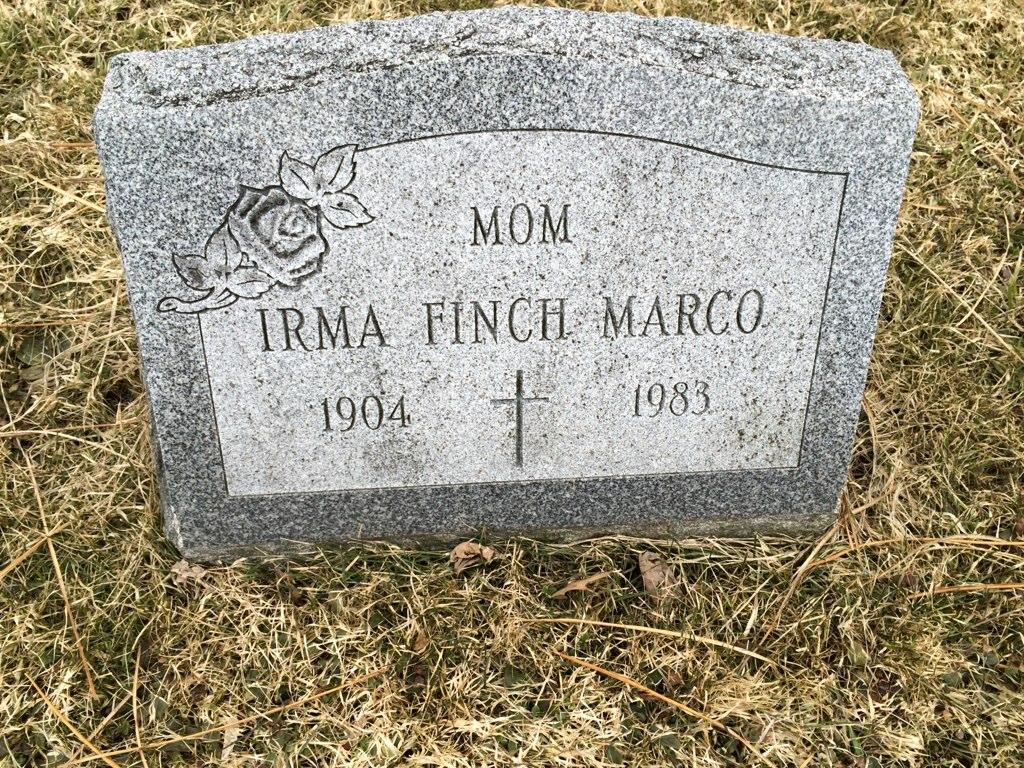upright: (85, 1, 926, 565)
